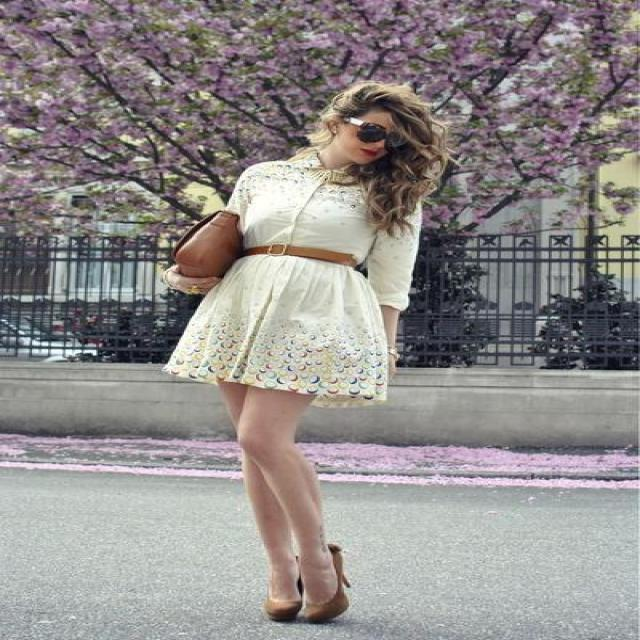bag: (173, 192, 248, 278)
dress: (162, 152, 422, 396)
shoe: (245, 588, 347, 625)
sunglass: (357, 122, 397, 156)
